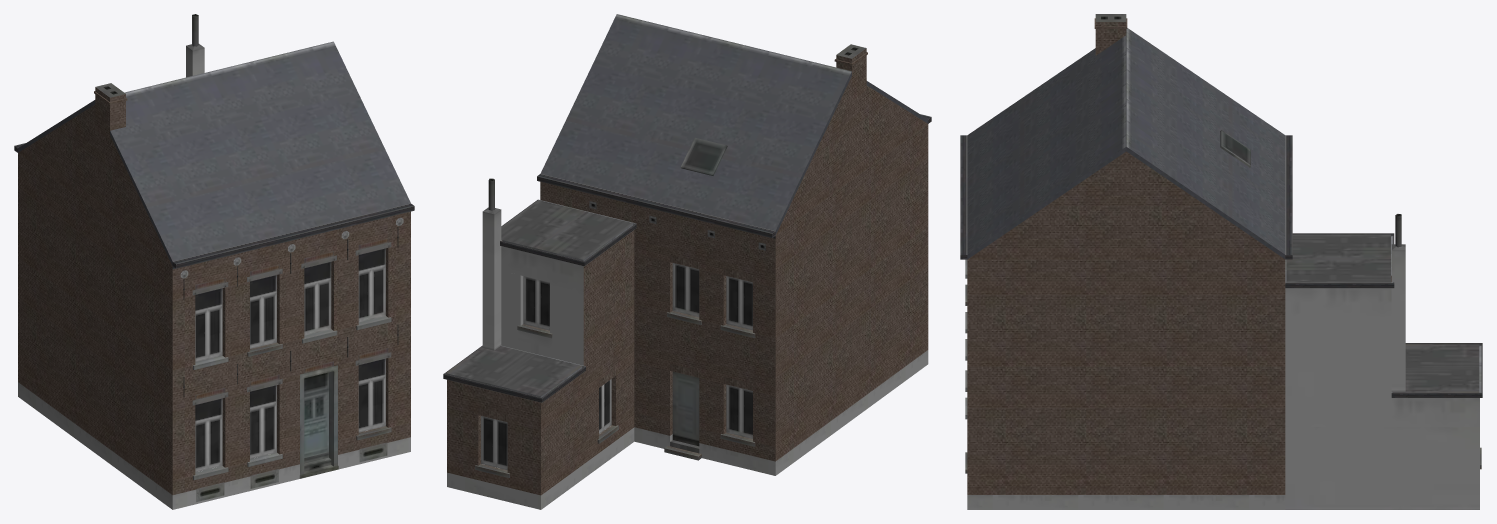
3 views of the same model, side by side, from view 1: azimuth 30°, elevation 25°; view 2: azimuth 150°, elevation 25°; view 3: azimuth 270°, elevation 25° (orthographic). The views are drawn at different scales.
Visible parts, largest first — view 1: 1_main_0; view 2: 1_main_0; view 3: 1_main_0.
Boxes of the visible parts, x1,y1,x2,y2 form: 1_main_0: (14,14,414,509); 1_main_0: (443,14,931,509); 1_main_0: (960,14,1482,509).
Bounding box in the file's own units: 8.11 × 11.75 × 14.78.
Materials: 1 (1 with a texture image).
